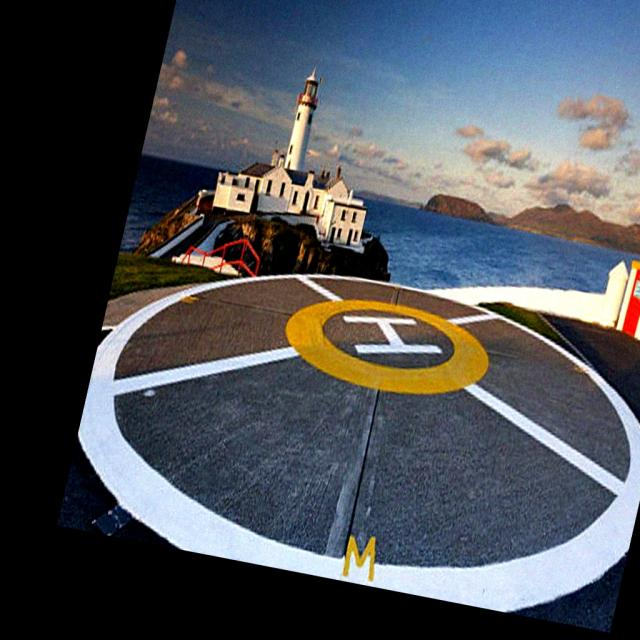helipad: (280, 294, 494, 397)
